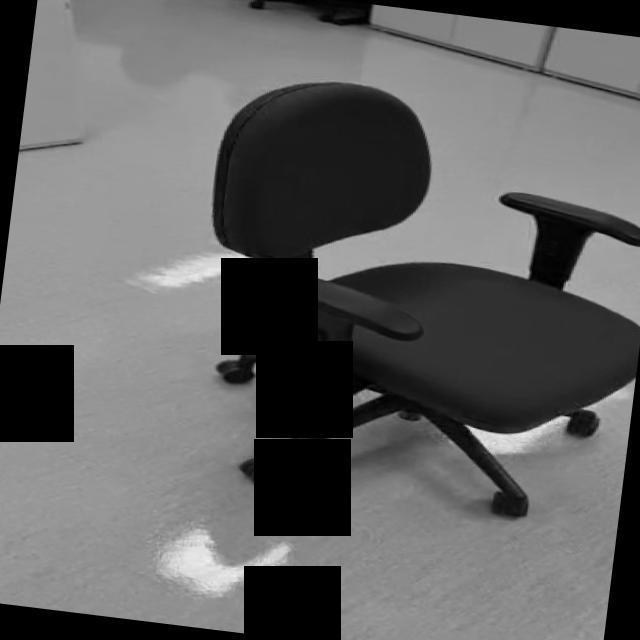chair: (177, 66, 640, 527)
